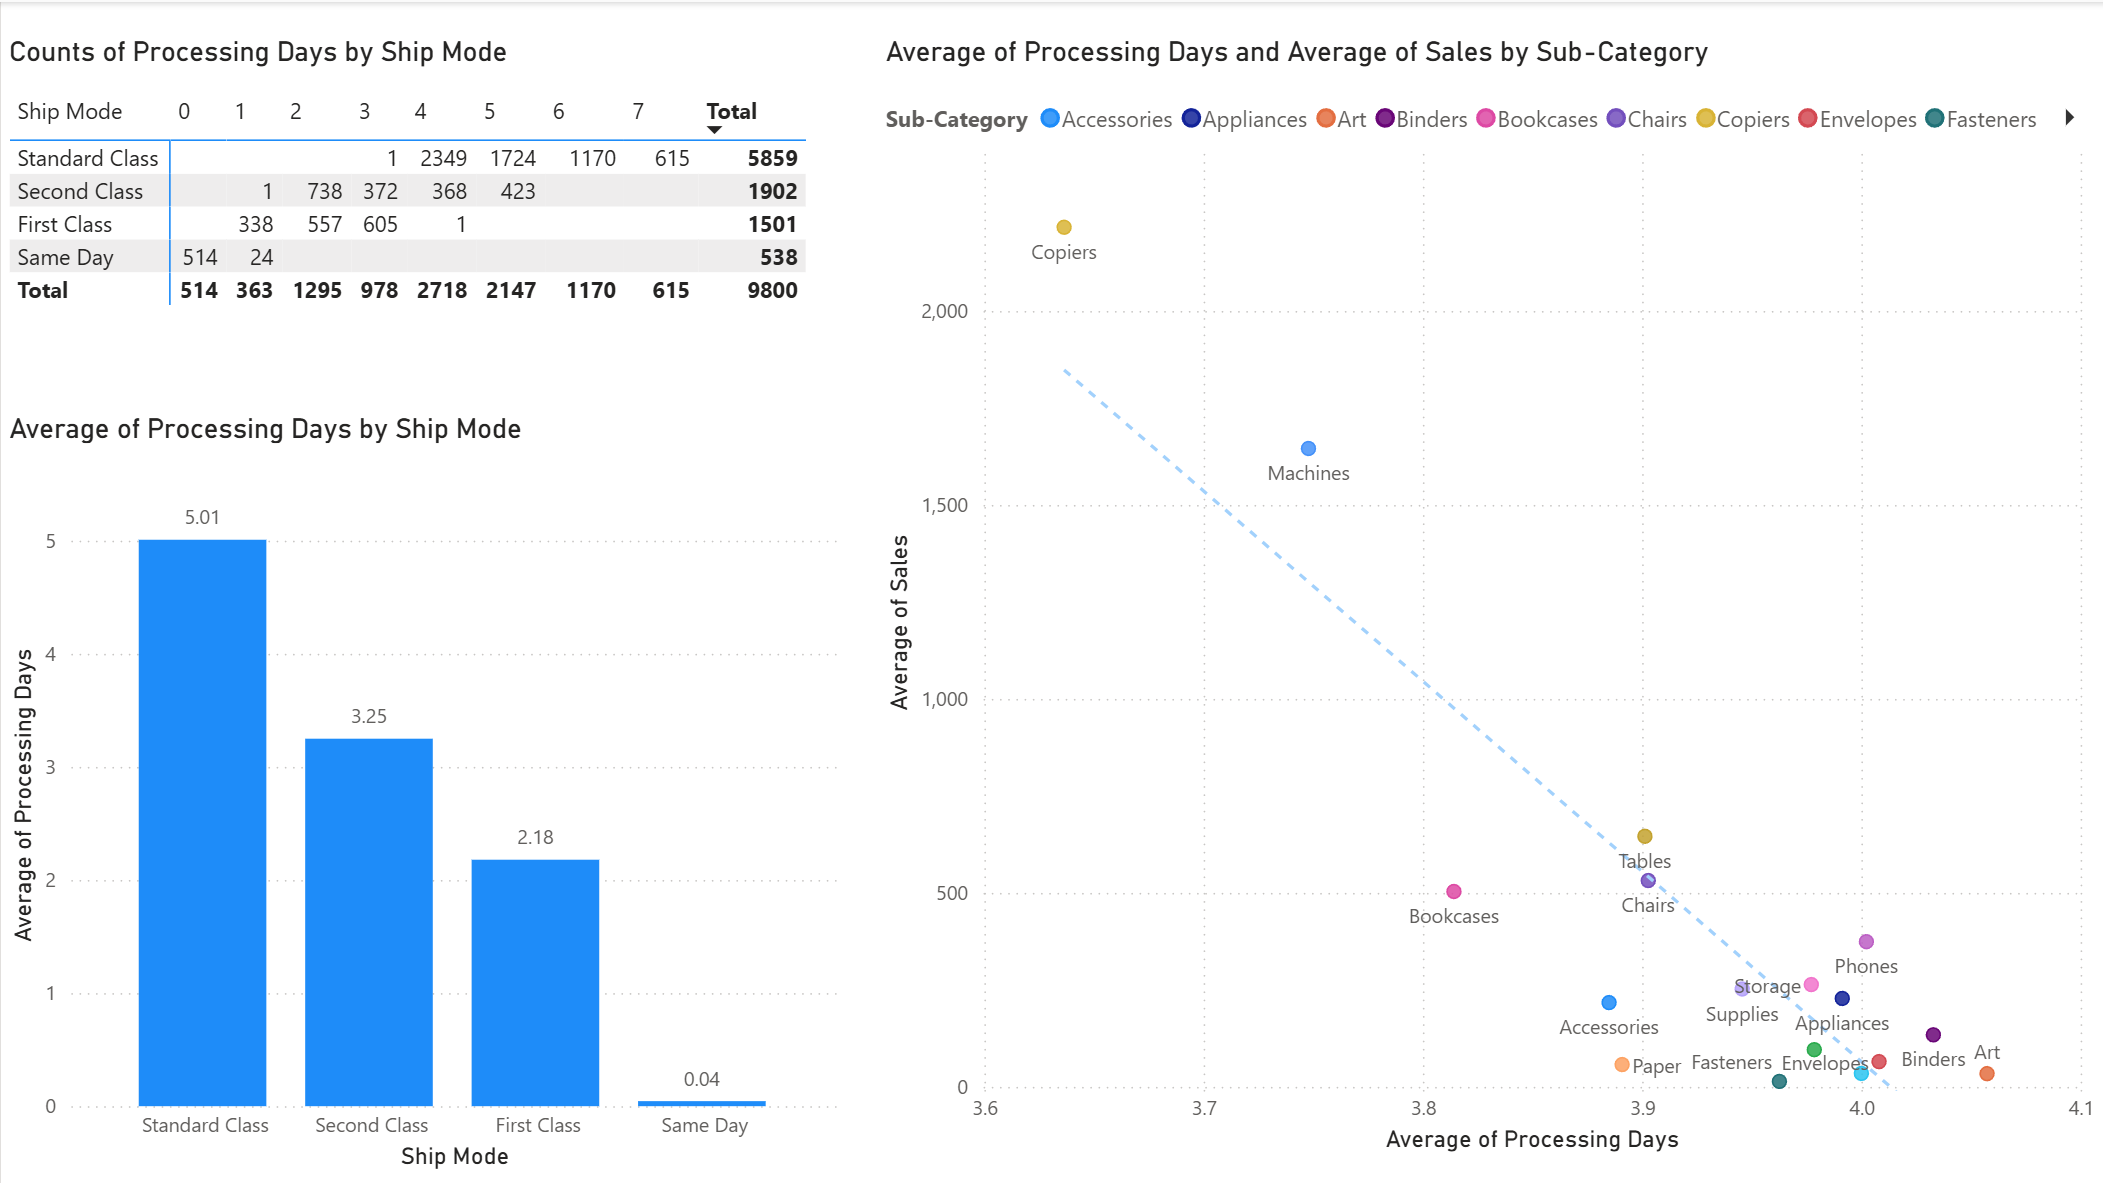

The dashboard page shown, as its layout file describes it:
{"tool":"powerbi","page":{"name":"Operational Performance","canvas":[1280,720],"ordinal":3},"visuals":[{"type":"pivotTable","title":"Counts of Processing Days by Ship Mode","fields":{"Rows":["superstore_sales_dataset.Ship Mode"],"Columns":["superstore_sales_dataset.Processing Days"],"Values":["CountNonNull(superstore_sales_dataset.Processing Days)"]},"box":[0,0,508.8,228.9],"z":0},{"type":"clusteredColumnChart","fields":{"Category":["superstore_sales_dataset.Ship Mode"],"Y":["Avg(superstore_sales_dataset.Processing Days)"]},"box":[0,228.9,519.2,491.1],"z":1000},{"type":"scatterChart","fields":{"X":["Avg(superstore_sales_dataset.Processing Days)"],"Y":["Avg(superstore_sales_dataset.Sales)"],"Series":["superstore_sales_dataset.Sub-Category"]},"box":[519.2,0,760.5,720],"z":2000}]}

Visuals, with their boxes in screenshot pixels (x1, y1, x2, y2), scaled from the page's 1280x720 canvas onto the 2103x1183 screenshot:
"Counts of Processing Days by Ship Mode" pivotTable: (0, 0, 836, 376)
clusteredColumnChart - superstore_sales_dataset.Ship Mode x Avg(superstore_sales_dataset.Processing Days): (0, 376, 853, 1182)
scatterChart - Avg(superstore_sales_dataset.Processing Days) x Avg(superstore_sales_dataset.Sales): (853, 0, 2102, 1182)
